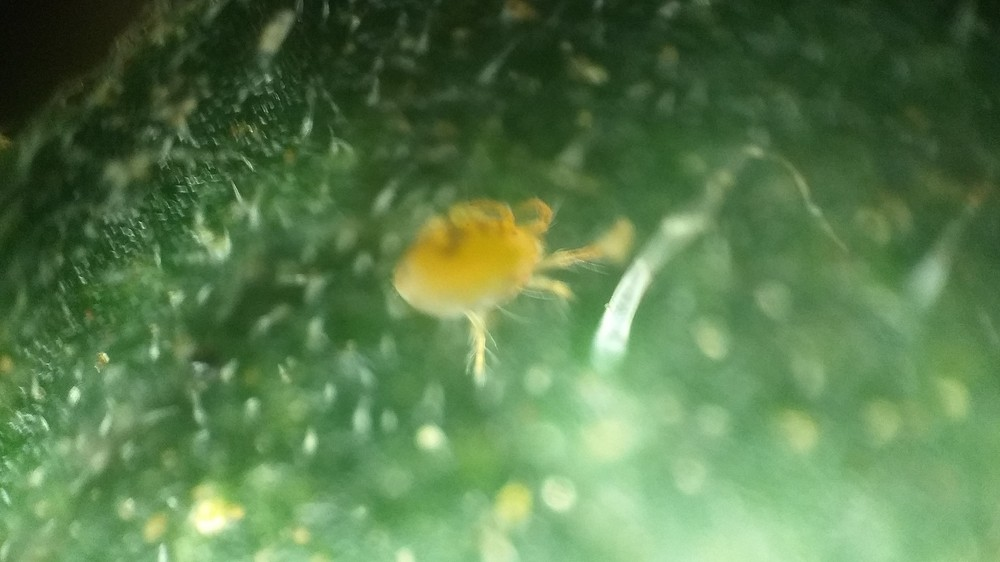Aracnido Rojo: (350, 167, 627, 395)
